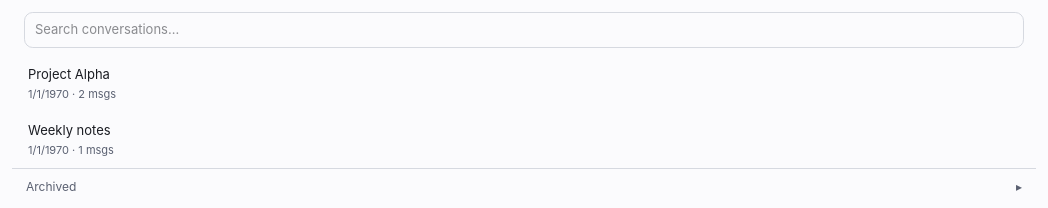
Test: ConversationList › filters conversations by search query
Expected: the text "Project Alpha" is shown, [28,66,110,82]
Expected: the text "Weekly notes" is shown, [28,122,111,138]
Type "alpha" into the search field with placeholder "Search conversations…" at (524, 30), box [24,12,1024,48]
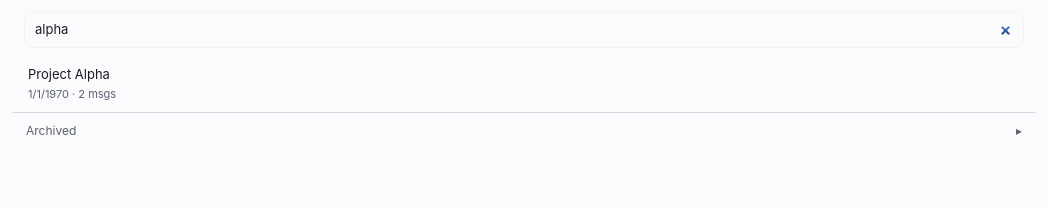
Expected: the text "Project Alpha" is shown, [28,66,110,82]
Now the button "Weekly notes" is gone
